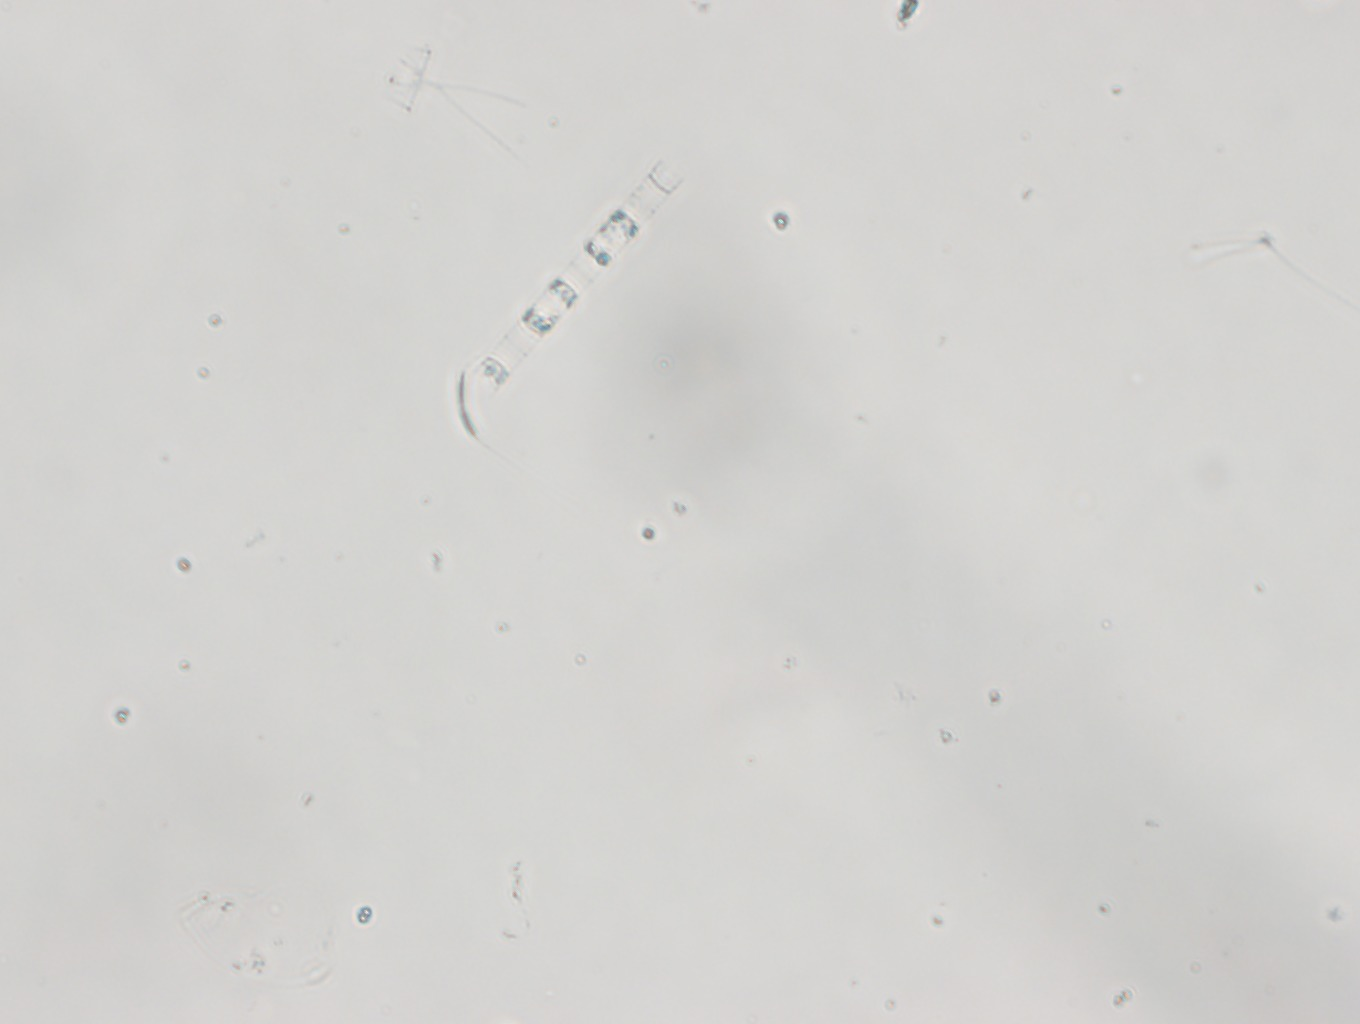chaetoceros: (352, 33, 536, 152)
skeletonema: (471, 152, 689, 409)
